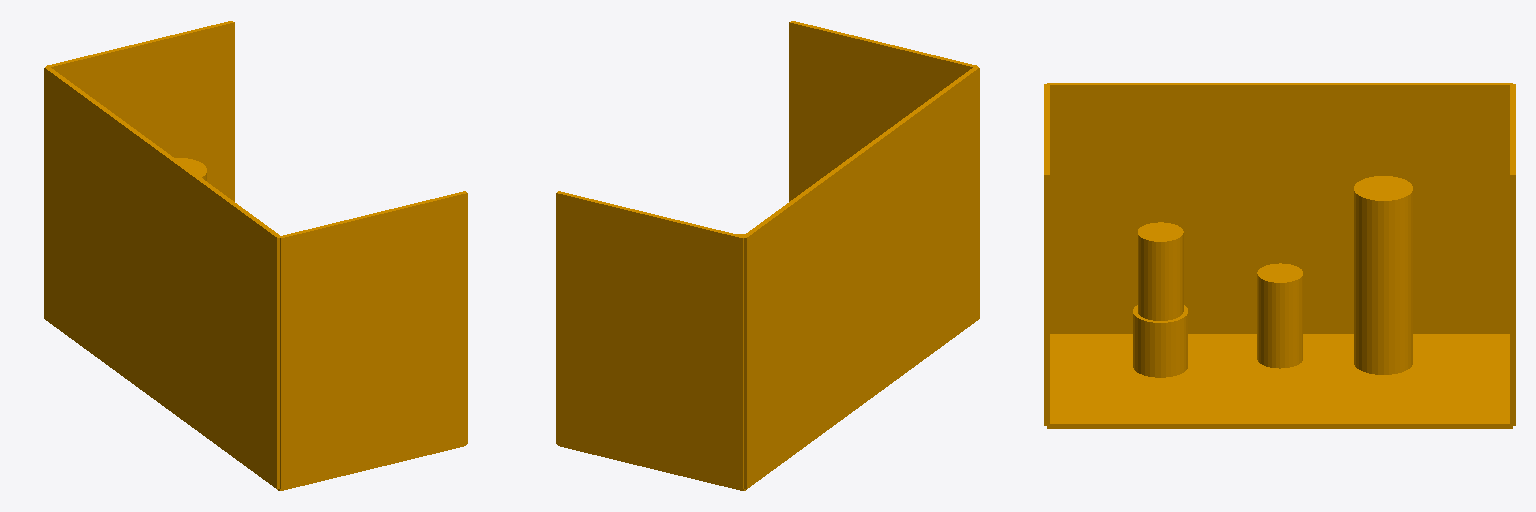
The robot description file, URDF, robot "syn_can_cabinet_2085":
<?xml version="1.0" ?>
<robot name="syn_can_cabinet_2085">
    <link concave="yes" name="base_link">
        <inertial>
            <origin rpy="0 0 0" xyz="0 0 0"/>
            <mass value="0.0"/>
            <inertia ixx="1e-08" ixy="0" ixz="0" iyy="1e-08" iyz="0" izz="1e-08"/>
        </inertial>
        <visual>
            <origin xyz="0 0 0" rpy="0 0 0" />
            <geometry>
                <mesh filename="syn_can_cabinet_2085.obj" scale="1.000000 1.000000 1.000000"/>
            </geometry>         
        </visual>

        <collision concave="yes">
            <origin xyz="0 0 0" rpy="0 0 0"/>
            <geometry>
                <mesh filename="syn_can_cabinet_2085.obj" scale="1.000000 1.000000 1.000000"/>
            </geometry>
        </collision>
    </link>
</robot>
    

--- What the picture shows (computed from the rendered views, not written in the file) ---
3 views of the same robot in one strip: view 1: azimuth 30°, elevation 25°; view 2: azimuth 150°, elevation 25°; view 3: azimuth 270°, elevation 25° (orthographic).
Model syn_can_cabinet_2085 with 1 links and 0 joints (none), rooted at base_link, posed every joint at zero.
Links seen in each view (by area): view 1: base_link; view 2: base_link; view 3: base_link.
Boxes of the visible links, x1,y1,x2,y2 form: base_link: (44, 21, 467, 490); base_link: (556, 21, 979, 490); base_link: (1044, 83, 1515, 428).
Bounding box of the posed robot: 0.2212 × 0.4778 × 0.2841 m (x, y, z).
1 mesh visuals loaded from 1 distinct referenced files (1 OBJ).
